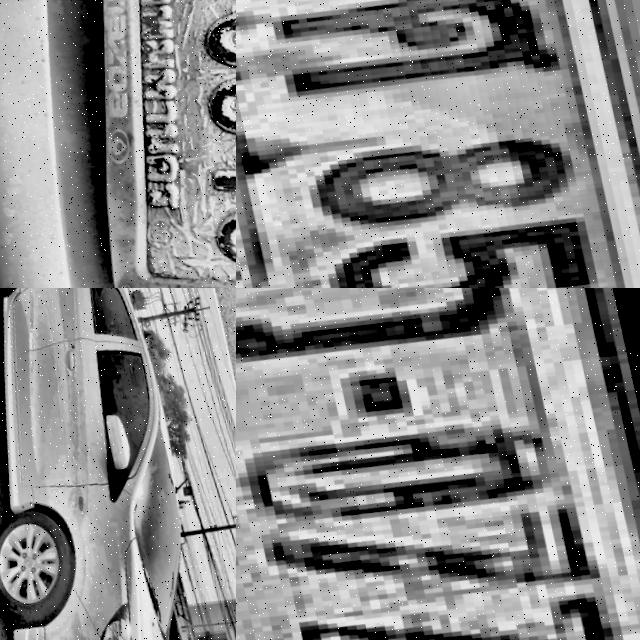license-plate: (236, 288, 640, 640), (236, 0, 640, 288), (0, 0, 236, 288)
